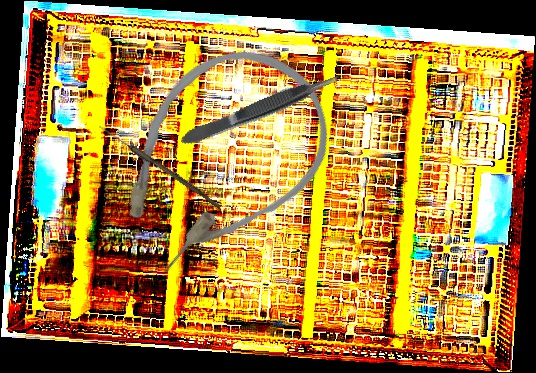Cannula: (76, 16, 360, 302)
Surgical Spoon: (96, 123, 224, 210)
Tissue Forceps: (177, 67, 347, 150)
